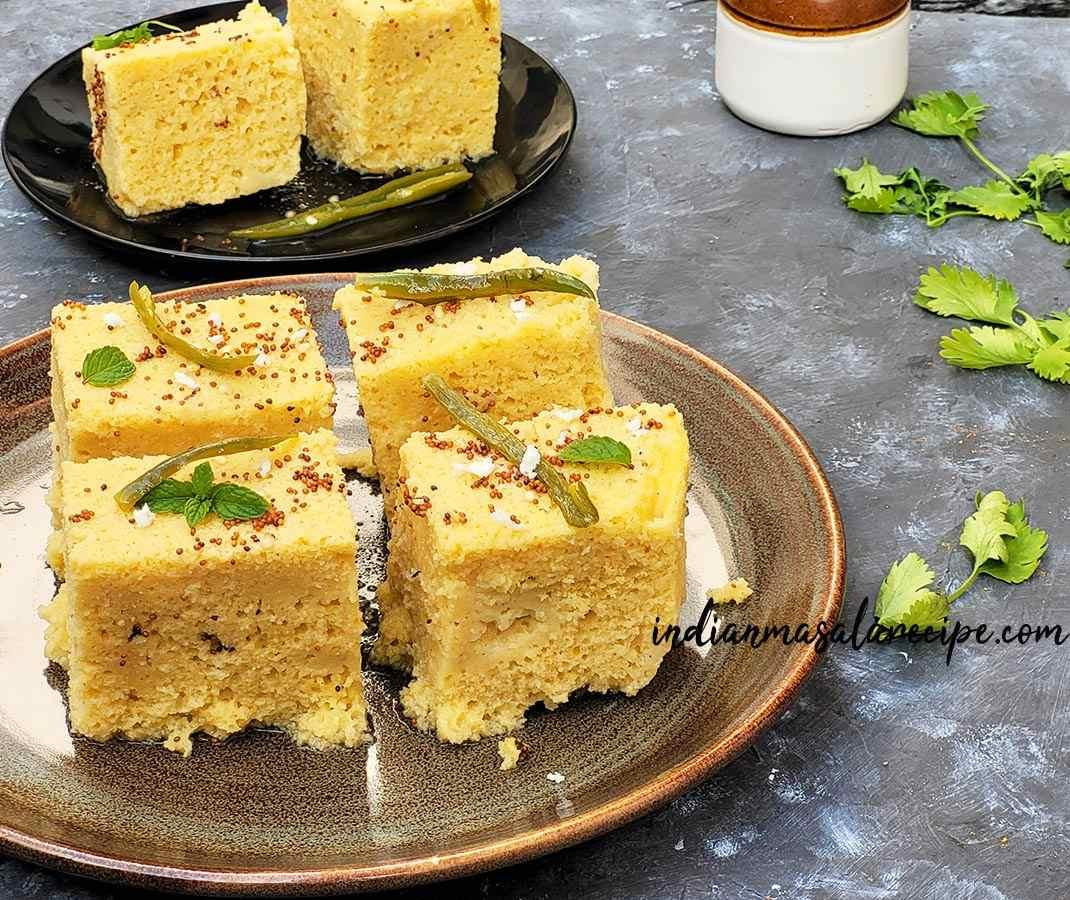yellow dhokla: (40, 306, 675, 749), (80, 0, 516, 224)
